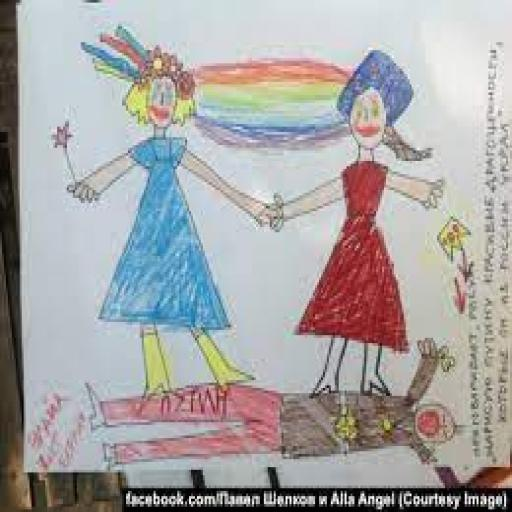person: (60, 47, 266, 410), (274, 52, 450, 398), (76, 336, 480, 473)
